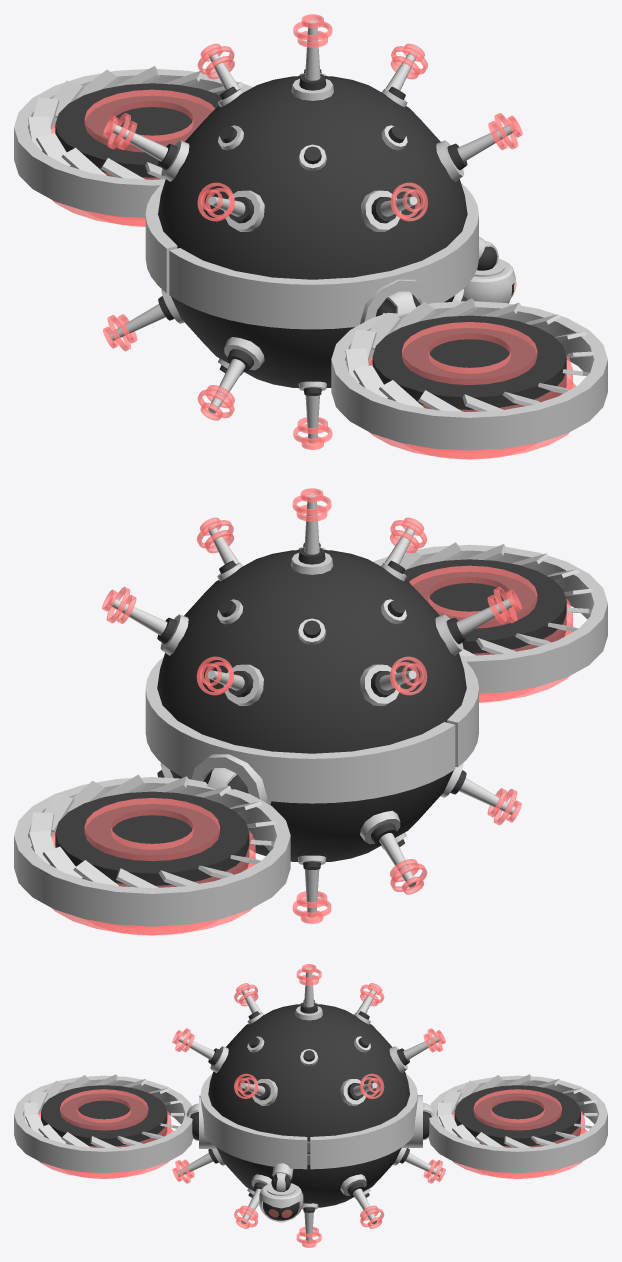
File: Suicide_Grunt.fbx
3 views of the same model, one above another, from view 1: azimuth 30°, elevation 25°; view 2: azimuth 150°, elevation 25°; view 3: azimuth 270°, elevation 25° (orthographic). The views are drawn at different scales.
Visible parts, largest first — view 1: Base, Tube_3_9, Tube_4_3, Cylinder_9, Cylinder_8, Tube, Tube_3_10, Tube_3_8, Tube_2_9, Base_1, Tube_2_10, Cylinder_6 (+18 smaller); view 2: Base, Tube, Tube_2_9, Cylinder_8, Cylinder_9, Tube_3_9, Tube_3_8, Tube_3_10, Tube_4_3, Tube_2_8, Cylinder_5, Tube_1_9 (+17 smaller); view 3: Base, Tube_3_9, Tube, Cylinder_9, Cylinder_8, Tube_2_9, Tube_4_3, Tube_3_8, Tube_3_10, Base_1, Tube_2_8, Tube_2_10 (+12 smaller).
Part boxes in pixels (x1=…): Base: x1=158, y1=76, x2=467, y2=388; Tube_3_9: x1=331, y1=301, x2=607, y2=450; Tube_4_3: x1=169, y1=183, x2=478, y2=329; Cylinder_9: x1=372, y1=315, x2=566, y2=411; Cylinder_8: x1=55, y1=83, x2=221, y2=179; Tube: x1=14, y1=69, x2=252, y2=217; Tube_3_10: x1=402, y1=322, x2=537, y2=384; Tube_3_8: x1=84, y1=89, x2=215, y2=152; Tube_2_9: x1=145, y1=182, x2=177, y2=293; Base_1: x1=463, y1=258, x2=515, y2=303; Tube_2_10: x1=369, y1=377, x2=576, y2=458; Cylinder_6: x1=109, y1=123, x2=167, y2=340; Base: x1=157, y1=550, x2=466, y2=861; Tube: x1=14, y1=777, x2=290, y2=926; Tube_2_9: x1=145, y1=657, x2=455, y2=803; Cylinder_8: x1=55, y1=791, x2=249, y2=887; Cylinder_9: x1=403, y1=559, x2=566, y2=655; Tube_3_9: x1=373, y1=544, x2=607, y2=693; Tube_3_8: x1=84, y1=798, x2=219, y2=861; Tube_3_10: x1=409, y1=565, x2=537, y2=628; Tube_4_3: x1=447, y1=656, x2=478, y2=767; Tube_2_8: x1=52, y1=854, x2=255, y2=934; Cylinder_5: x1=456, y1=598, x2=515, y2=814; Tube_1_9: x1=191, y1=754, x2=271, y2=804; Base: x1=208, y1=1004, x2=409, y2=1207; Tube_3_9: x1=14, y1=1075, x2=193, y2=1173; Tube: x1=428, y1=1075, x2=607, y2=1173; Cylinder_9: x1=41, y1=1085, x2=167, y2=1147; Cylinder_8: x1=454, y1=1085, x2=580, y2=1147; Tube_2_9: x1=310, y1=1073, x2=417, y2=1169; Tube_4_3: x1=200, y1=1074, x2=307, y2=1169; Tube_3_8: x1=473, y1=1089, x2=561, y2=1130; Tube_3_10: x1=60, y1=1089, x2=148, y2=1130; Base_1: x1=259, y1=1183, x2=303, y2=1222; Tube_2_8: x1=453, y1=1128, x2=587, y2=1178; Tube_2_10: x1=39, y1=1128, x2=173, y2=1178.
Size of the model in its own units: 141 by 171 by 331.
